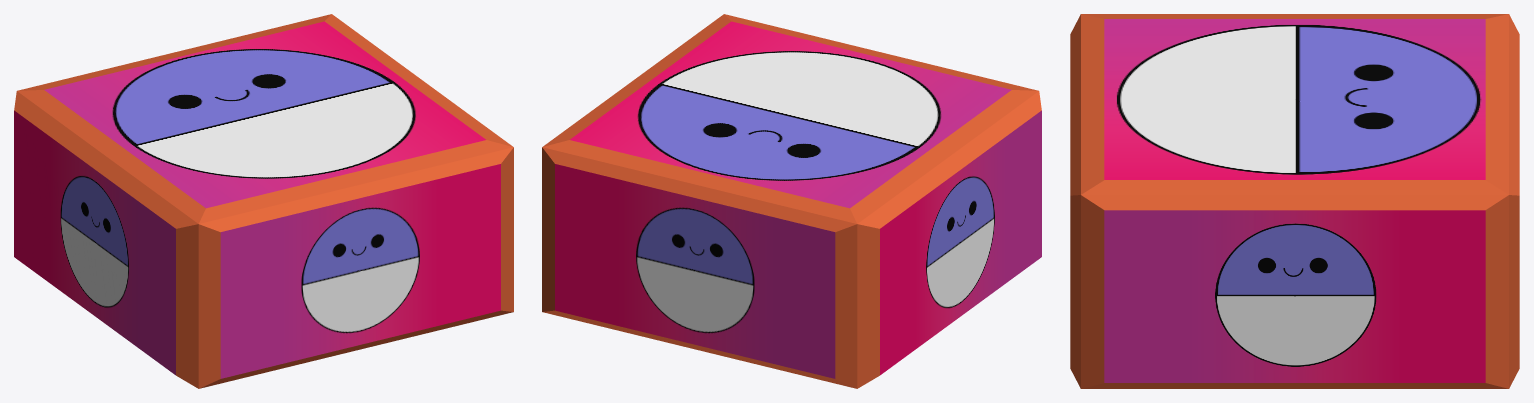
The model's file is Fracciones un medio.fbx.
3 renders of one model, left to right at view 1: azimuth 30°, elevation 25°; view 2: azimuth 150°, elevation 25°; view 3: azimuth 270°, elevation 25°, orthographic. The views are drawn at different scales.
Visible parts, largest first — view 1: 1/2; view 2: 1/2; view 3: 1/2.
Part boxes in pixels (left/top/right/bottom): 1/2: left=14, top=14, right=513, bottom=388; 1/2: left=542, top=14, right=1041, bottom=388; 1/2: left=1070, top=14, right=1519, bottom=388.
Bounding box in the file's own units: 213 × 105 × 210.
2 materials, 1 textured.
